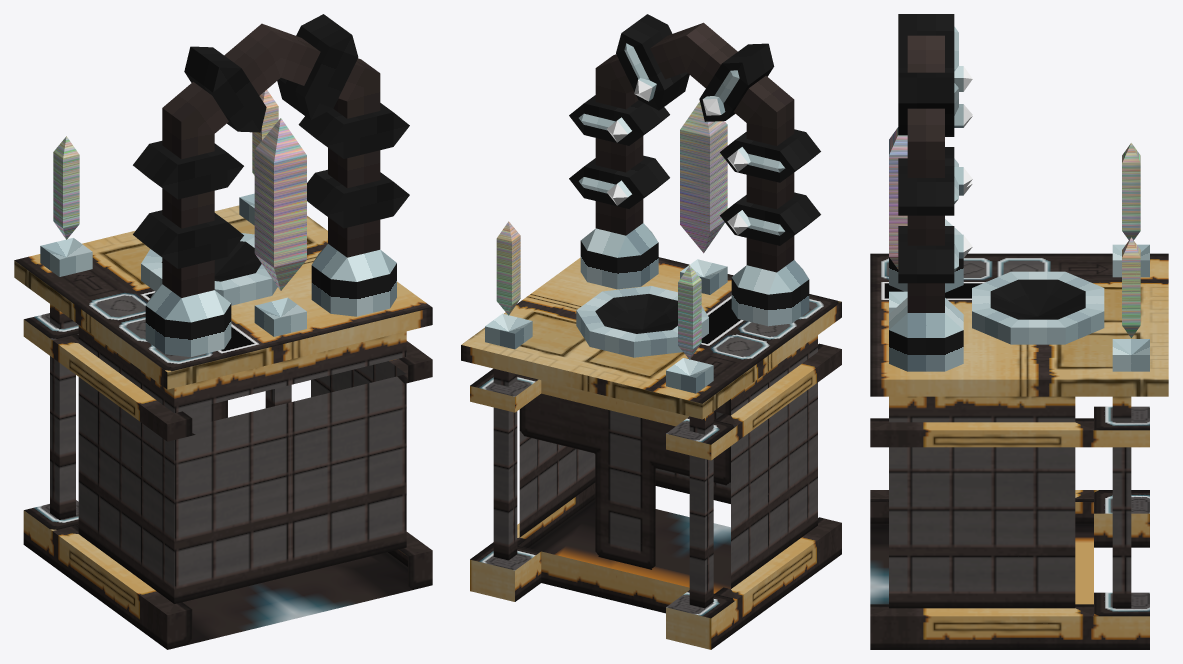
File: station_mastery_inventory.obj
3 renders of one model, left to right at view 1: azimuth 30°, elevation 25°; view 2: azimuth 150°, elevation 25°; view 3: azimuth 270°, elevation 25°, orthographic. The views are drawn at different scales.
Visible parts, largest first — view 1: DESK_SINGLE_MAIN.006, MASTERY_MAIN_Cylinder, MASTERY_CRYSTAL_REAR_Cube.045, MASTERY_CRYSTAL_FRONTRIGHT_Cube.044, MASTERY_CRYSTAL_FRONTLEFT_Cube.042; view 2: DESK_SINGLE_MAIN.006, MASTERY_MAIN_Cylinder, MASTERY_CRYSTAL_REAR_Cube.045, MASTERY_CRYSTAL_FRONTLEFT_Cube.042, MASTERY_CRYSTAL_FRONTRIGHT_Cube.044; view 3: DESK_SINGLE_MAIN.006, MASTERY_MAIN_Cylinder, MASTERY_CRYSTAL_FRONTLEFT_Cube.042, MASTERY_CRYSTAL_FRONTRIGHT_Cube.044, MASTERY_CRYSTAL_REAR_Cube.045.
Part boxes in pixels (x1,y1,x2,y2): DESK_SINGLE_MAIN.006: (14, 205, 432, 649); MASTERY_MAIN_Cylinder: (40, 14, 409, 357); MASTERY_CRYSTAL_REAR_Cube.045: (254, 118, 306, 290); MASTERY_CRYSTAL_FRONTRIGHT_Cube.044: (53, 136, 79, 239); MASTERY_CRYSTAL_FRONTLEFT_Cube.042: (252, 90, 278, 175); DESK_SINGLE_MAIN.006: (461, 257, 841, 649); MASTERY_MAIN_Cylinder: (485, 14, 820, 393); MASTERY_CRYSTAL_REAR_Cube.045: (680, 101, 727, 253); MASTERY_CRYSTAL_FRONTLEFT_Cube.042: (496, 221, 520, 315); MASTERY_CRYSTAL_FRONTRIGHT_Cube.044: (678, 265, 701, 359); DESK_SINGLE_MAIN.006: (870, 253, 1168, 649); MASTERY_MAIN_Cylinder: (889, 14, 1149, 371); MASTERY_CRYSTAL_FRONTLEFT_Cube.042: (1122, 237, 1140, 338); MASTERY_CRYSTAL_FRONTRIGHT_Cube.044: (1122, 143, 1140, 240); MASTERY_CRYSTAL_REAR_Cube.045: (889, 127, 907, 269).
Bounding box in the file's own units: 1 × 2.04 × 1.
